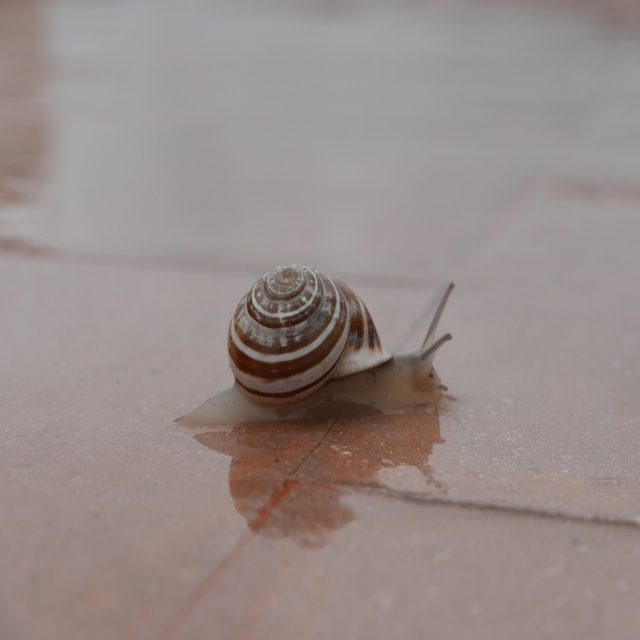Snail: (172, 259, 458, 432)
